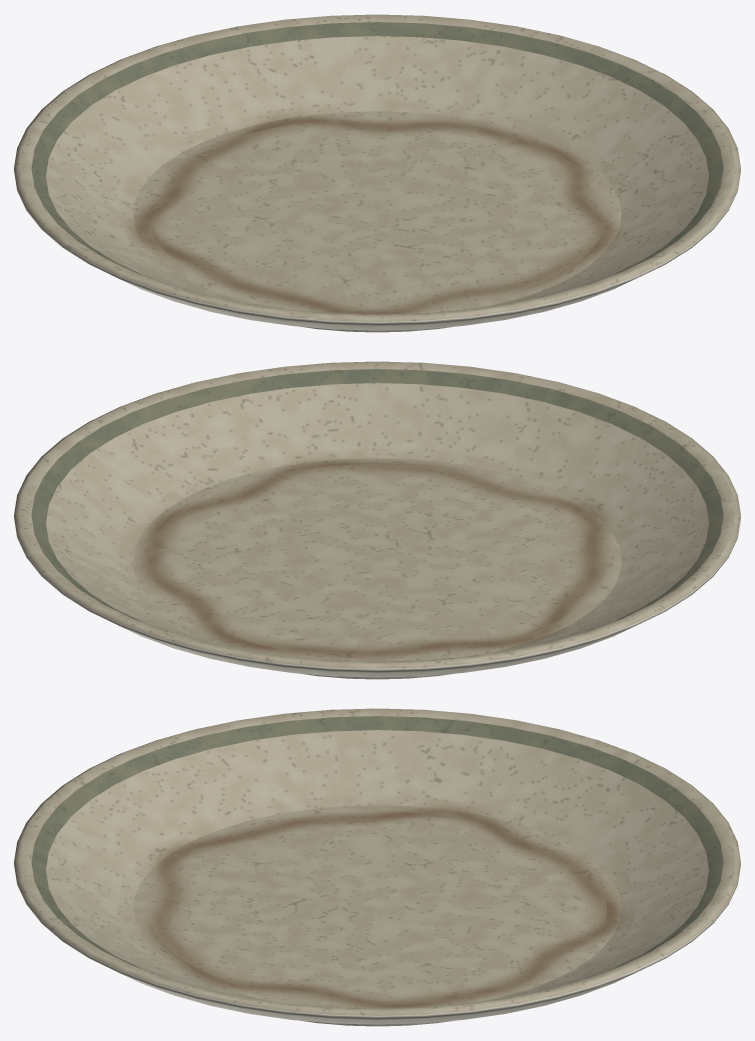
The model's file is plate_aged.glb.
The picture shows the model from 3 angles, top to bottom: view 1: azimuth 30°, elevation 25°; view 2: azimuth 150°, elevation 25°; view 3: azimuth 270°, elevation 25°; orthographic projection.
Visible parts, largest first — view 1: Dish; view 2: Dish; view 3: Dish.
Boxes of the visible parts, bbox=[...] form: Dish: bbox=[14, 14, 740, 332]; Dish: bbox=[14, 361, 740, 679]; Dish: bbox=[14, 708, 740, 1026].
Bounding box in the file's own units: 0.25 × 0.026 × 0.25.
Materials: 4 (4 with a texture image).
